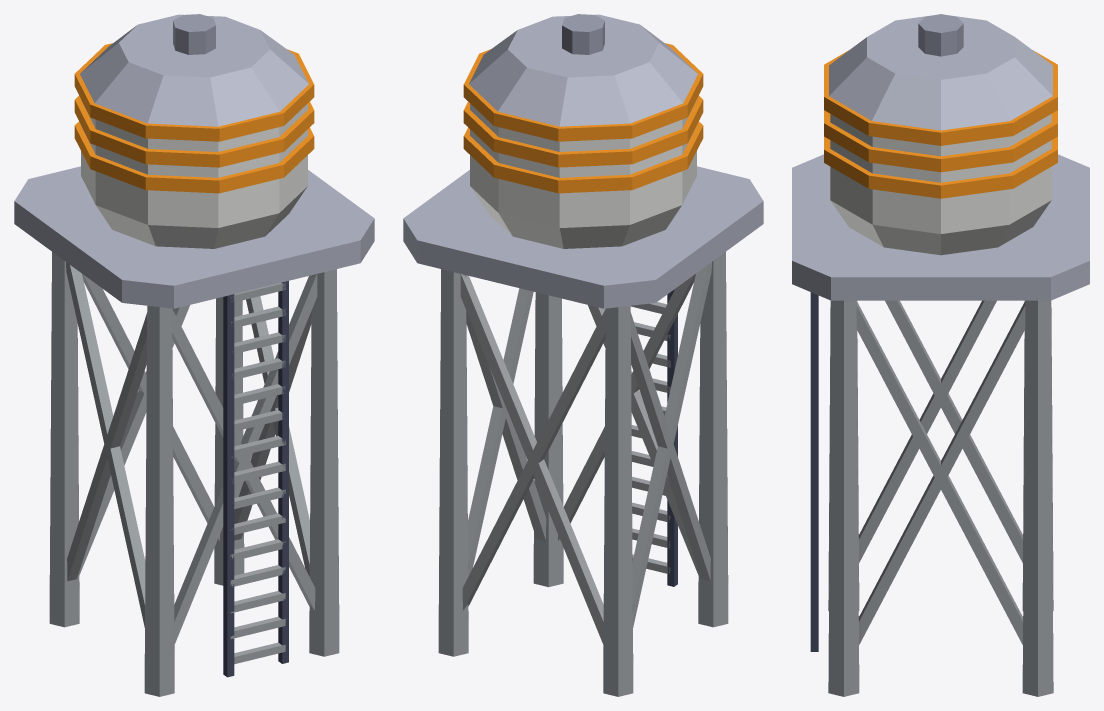
Rendered from watertower-1x1-t3-tone-a.glb.
3 renders of one model, left to right at view 1: azimuth 30°, elevation 25°; view 2: azimuth 150°, elevation 25°; view 3: azimuth 270°, elevation 25°, orthographic. The views are drawn at different scales.
Parts seen in each view (by area): view 1: watertower-1x1-t3-tone-a; view 2: watertower-1x1-t3-tone-a; view 3: watertower-1x1-t3-tone-a.
Part boxes in pixels (x1,y1,x2,y2): watertower-1x1-t3-tone-a: (14, 14, 374, 696); watertower-1x1-t3-tone-a: (403, 14, 763, 696); watertower-1x1-t3-tone-a: (792, 14, 1089, 696).
Bounding box in the file's own units: 0.92 × 2.13 × 0.92.
Materials: 1 (1 with a texture image).
